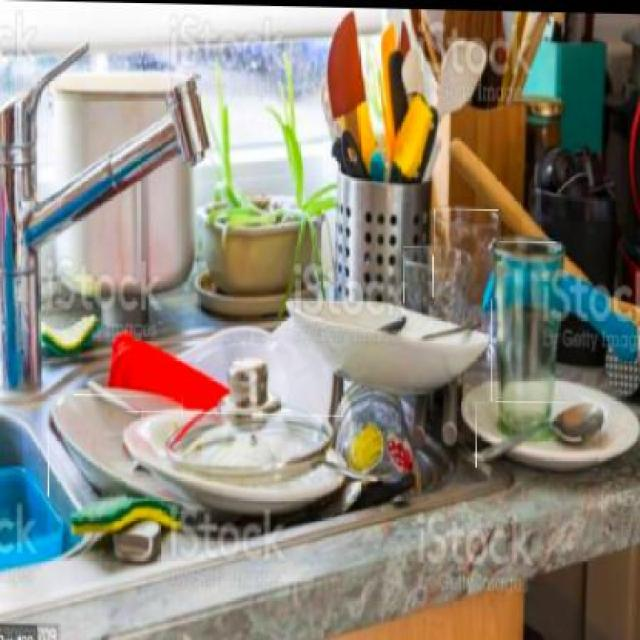Bowl: (287, 298, 478, 386)
Glass: (491, 238, 557, 420), (434, 206, 501, 299), (403, 243, 473, 325)
Plate: (126, 411, 345, 505), (49, 394, 186, 514)
